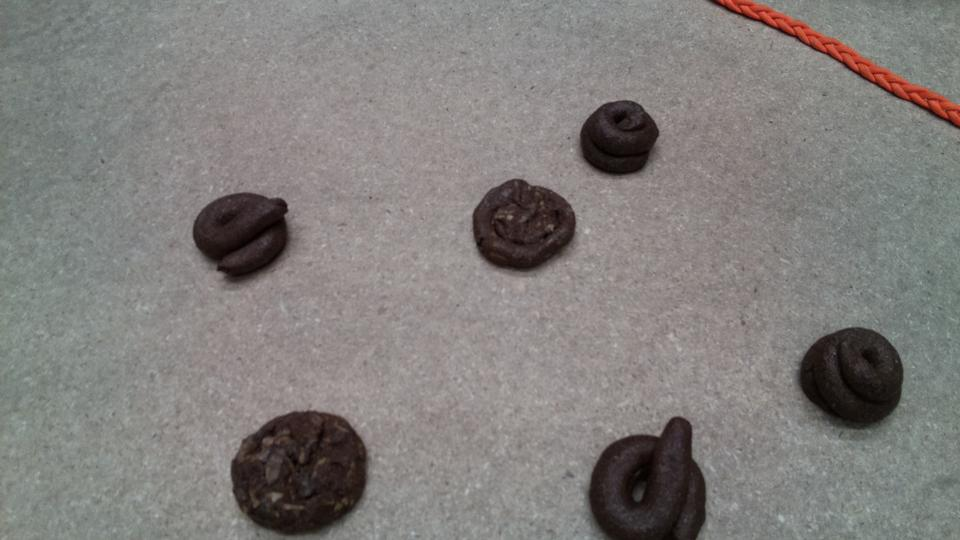poop: (230, 407, 371, 536), (586, 414, 712, 540), (797, 325, 906, 432), (470, 177, 578, 274), (190, 191, 294, 279), (578, 97, 661, 179)
rope: (730, 1, 960, 113)
